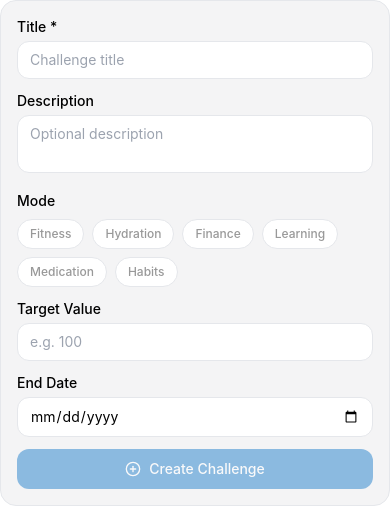
Test: ChallengeForm › create button is enabled when title is entered
Type "My Challenge" into the field with placeholder "Challenge title".
click(195, 60); type("My Challenge")  # box top-left (17, 41), bottom-right (373, 79)
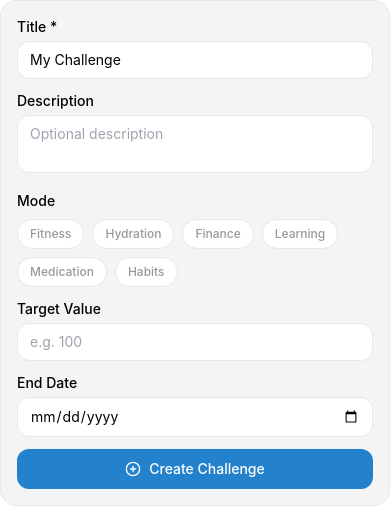
Check: the button "Create Challenge" is enabled, box top-left (17, 449), bottom-right (373, 489)
